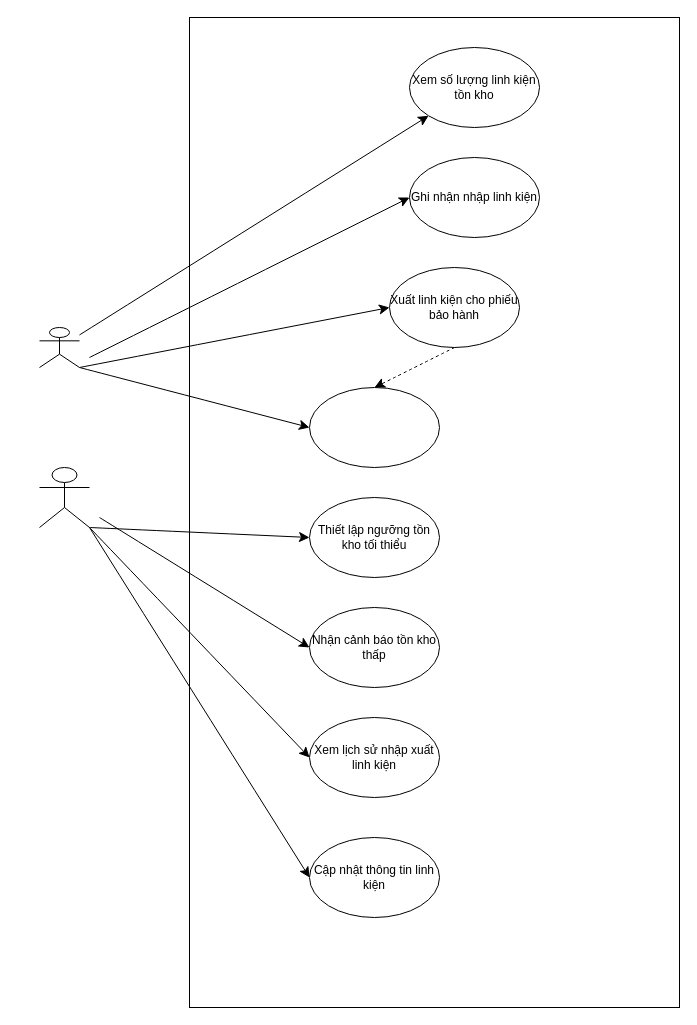
This 697x1025 diagram has some shape labels left out. The shapes that lost their labels are listed below. From the top down, each one's centre as x and y in pixels, then its label:
point (59, 347): Kỹ thuật viên
point (374, 427): Kiểm tra số lượng tồn kho
point (64, 497): Quản lý trung tâm
